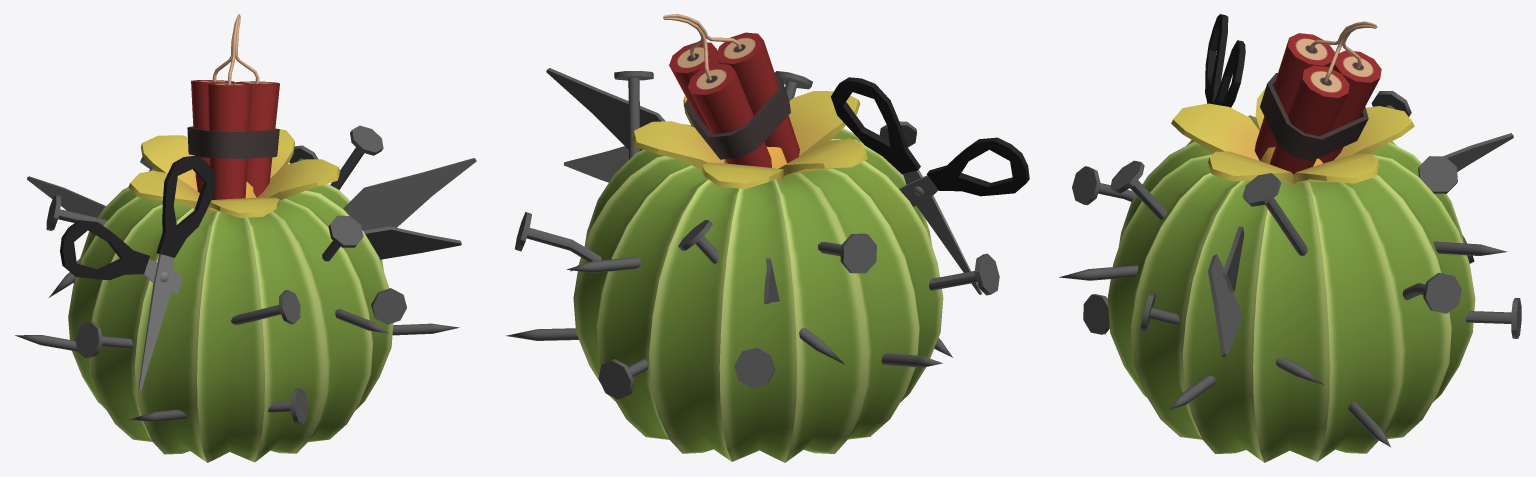
File: CactusBomb_Final.fbx
The picture shows the model from 3 angles, left to right: view 1: azimuth 30°, elevation 25°; view 2: azimuth 150°, elevation 25°; view 3: azimuth 270°, elevation 25°; orthographic projection. The views are drawn at different scales.
Parts seen in each view (by area): view 1: polySurface47, polySurface48, pCube21, pCube25; view 2: polySurface47, polySurface48, pCube21, pCube25; view 3: polySurface47, polySurface48, pCube21, pCube25.
Part boxes in pixels (bbox=[...]): polySurface47: bbox=[68, 128, 393, 462]; polySurface48: bbox=[15, 125, 476, 424]; pCube21: bbox=[187, 14, 279, 199]; pCube25: bbox=[60, 156, 214, 390]; polySurface47: bbox=[573, 91, 943, 462]; polySurface48: bbox=[506, 68, 999, 399]; pCube21: bbox=[663, 14, 799, 167]; pCube25: bbox=[831, 77, 1029, 294]; polySurface47: bbox=[1107, 88, 1475, 462]; polySurface48: bbox=[1059, 91, 1521, 446]; pCube21: bbox=[1254, 21, 1381, 174]; pCube25: bbox=[1205, 14, 1245, 107].
Bounding box in the file's own units: 2.11 × 1.81 × 1.79.
